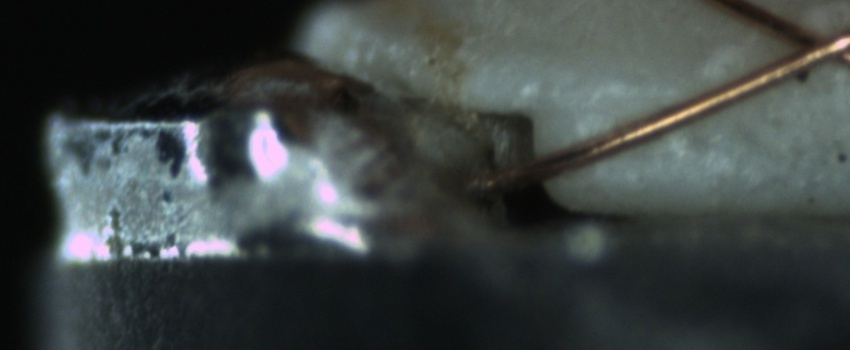CL: (764, 10, 849, 78)
DL: (570, 67, 702, 128)
